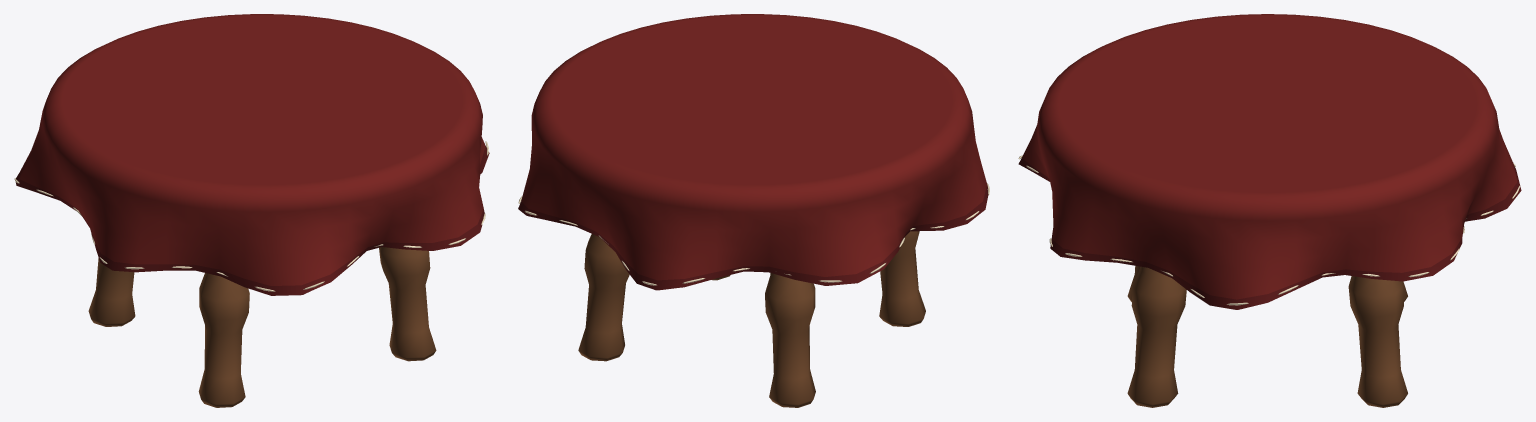
The model's file is coffee_table.glb.
3 views of the same model, side by side, from view 1: azimuth 30°, elevation 25°; view 2: azimuth 150°, elevation 25°; view 3: azimuth 270°, elevation 25° (orthographic). The views are drawn at different scales.
Visible parts, largest first — view 1: model; view 2: model; view 3: model.
Part boxes in pixels (x1,y1,x2,y2): model: (14,14,489,407); model: (518,14,989,407); model: (1018,14,1521,407).
Bounding box in the file's own units: 1.03 × 0.5665 × 1.05.
